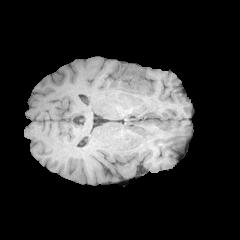glioma: (109, 62, 148, 97)
